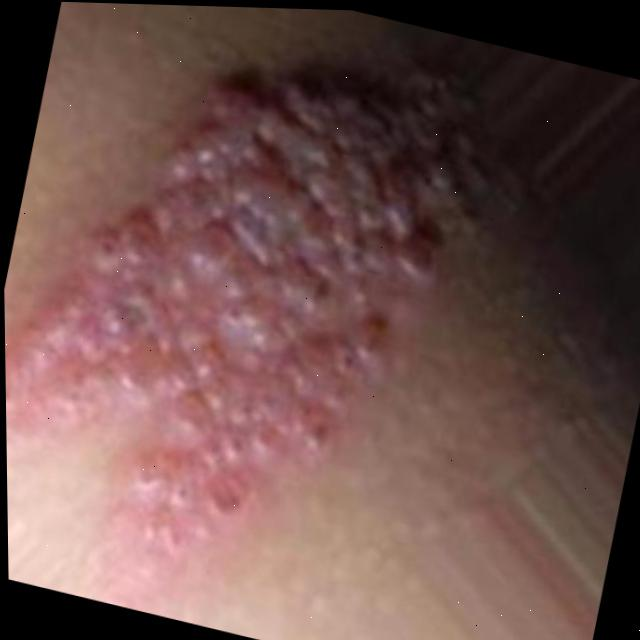Shingles: (0, 5, 492, 598)
